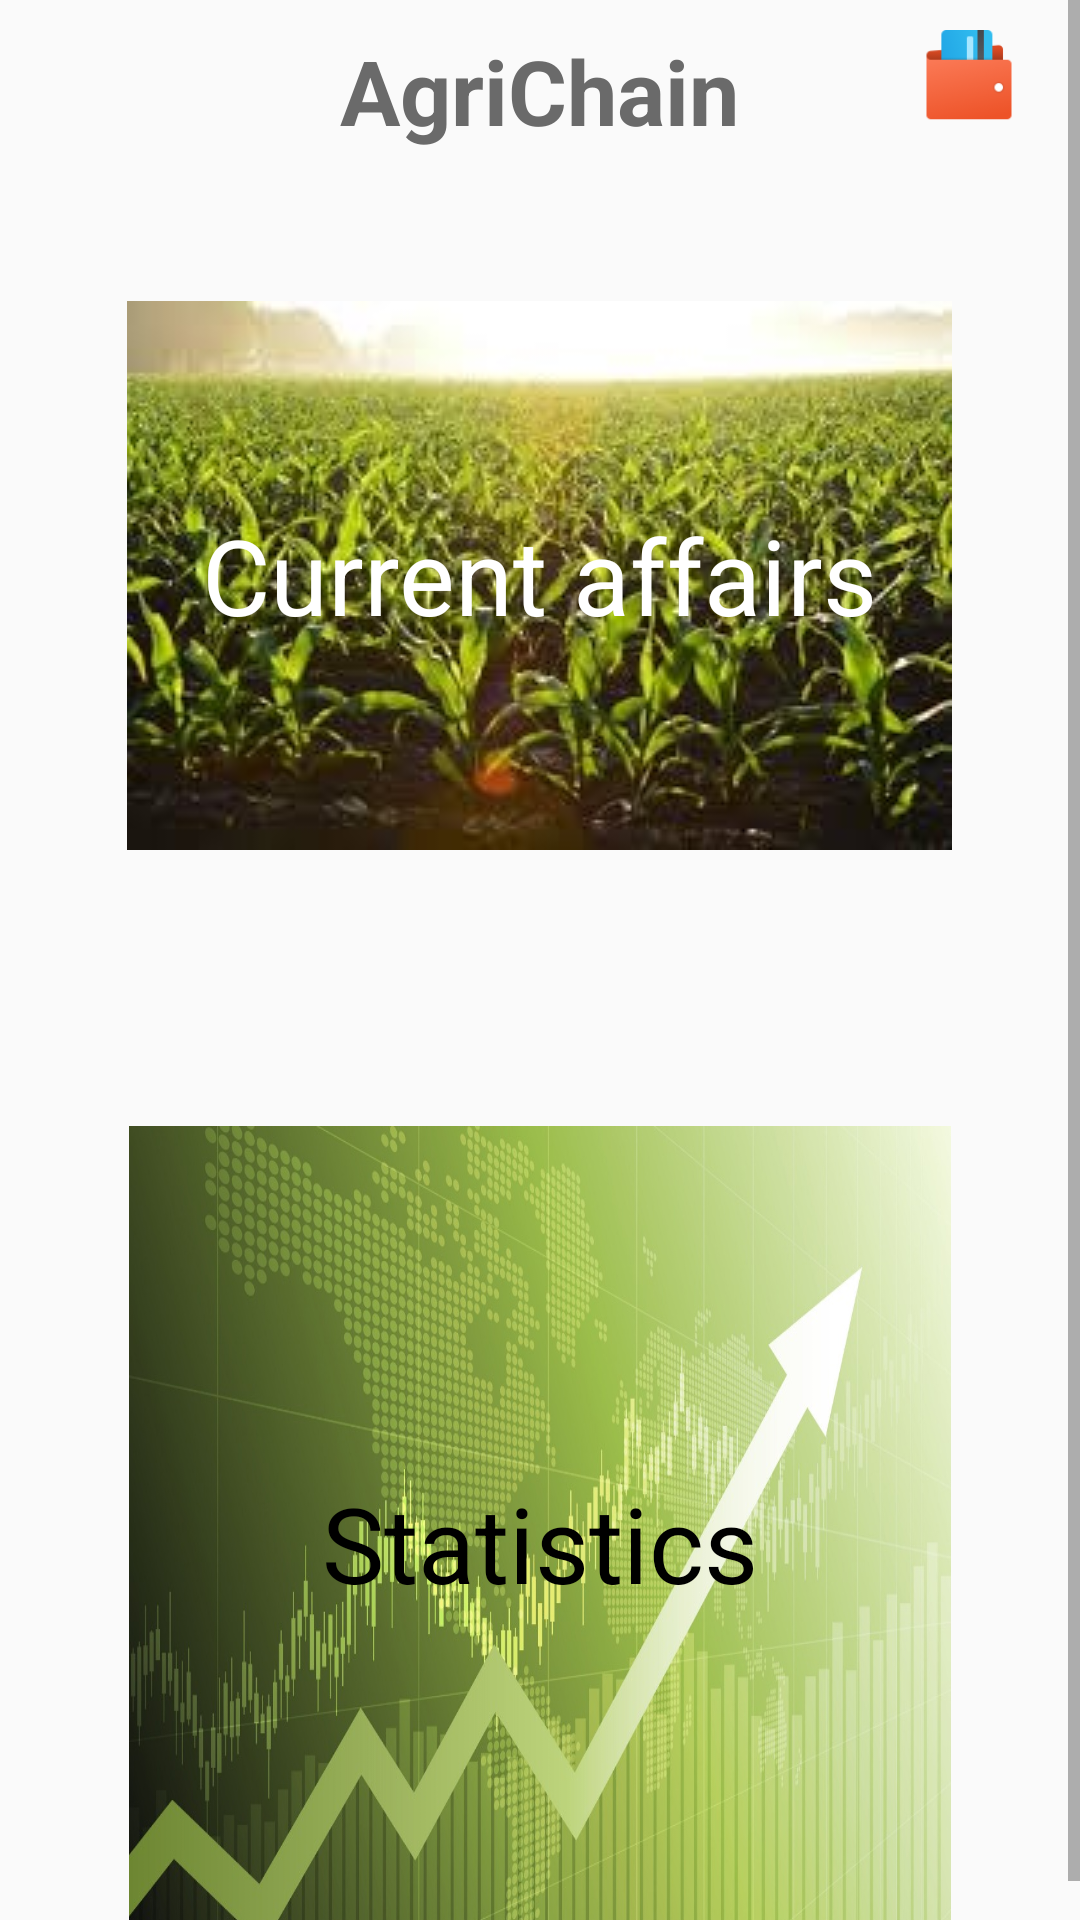

Where to tap for icons on this 1080×1920 app screen, as point (x, y):
wallet: point (969, 75)
